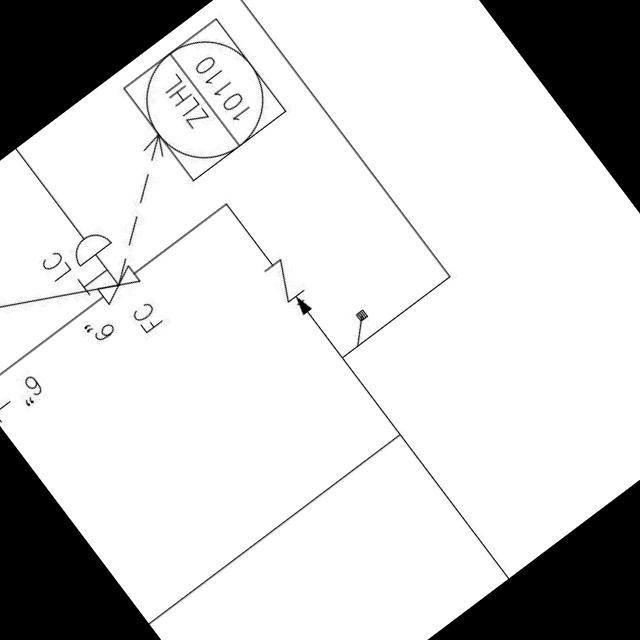FC: (58, 218, 148, 313)
